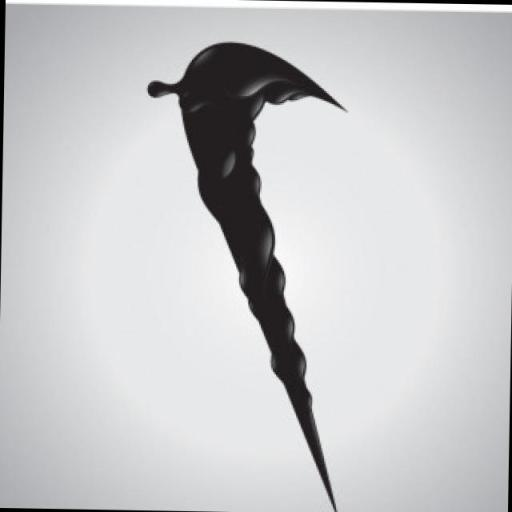Nike: (147, 38, 363, 512)
